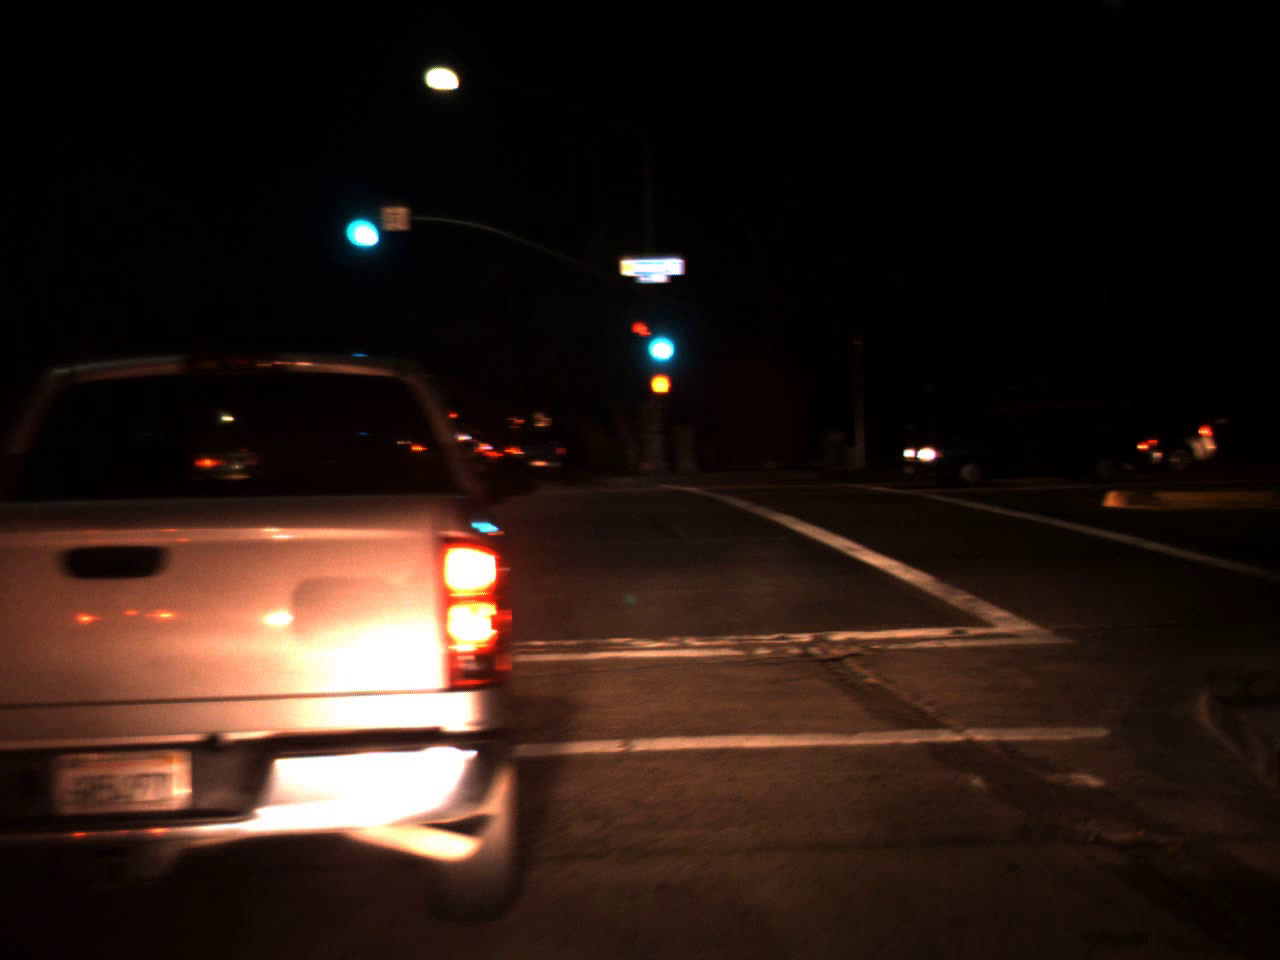go: (334, 181, 386, 259), (636, 305, 681, 371)
